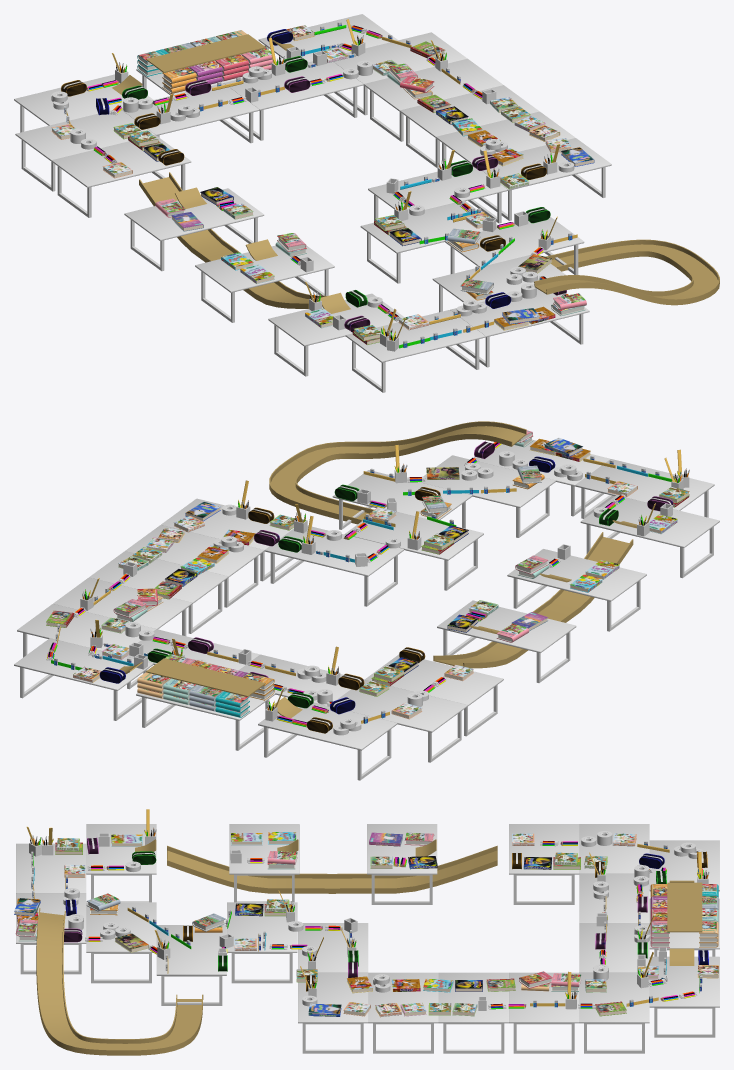
Rendered from revisi track 2.fbx.
The picture shows the model from 3 angles, top to bottom: view 1: azimuth 30°, elevation 25°; view 2: azimuth 150°, elevation 25°; view 3: azimuth 270°, elevation 25°; orthographic projection. The views are drawn at different scales.
Parts seen in each view (by area): view 1: Cube.017, Plane.008, Plane.006, Plane.005; view 2: Cube.017, Plane.008, Plane.006, Plane.005; view 3: Cube.017, Plane.008, Plane.006, Plane.005, Plane.004, Cube.013, Cube.012, Cube.010, Cube.052, Cube.011.
Boxes of the visible parts, x1,y1,x2,y2 form: Cube.017: [14, 14, 611, 392]; Plane.008: [534, 239, 719, 305]; Plane.006: [139, 172, 326, 308]; Plane.005: [146, 34, 265, 72]; Cube.017: [14, 439, 719, 780]; Plane.008: [269, 421, 526, 524]; Plane.006: [433, 532, 633, 668]; Plane.005: [146, 658, 265, 696]; Cube.017: [16, 824, 719, 1053]; Plane.008: [36, 908, 203, 1055]; Plane.006: [167, 845, 497, 893]; Plane.005: [667, 882, 702, 932]; Plane.004: [669, 948, 694, 965]; Cube.013: [115, 933, 149, 952]; Cube.012: [308, 1003, 341, 1016]; Cube.010: [369, 832, 402, 846]; Cube.052: [231, 833, 262, 845]; Cube.011: [111, 834, 142, 846].
Bounding box in the file's own units: 401 × 60.48 × 602.
